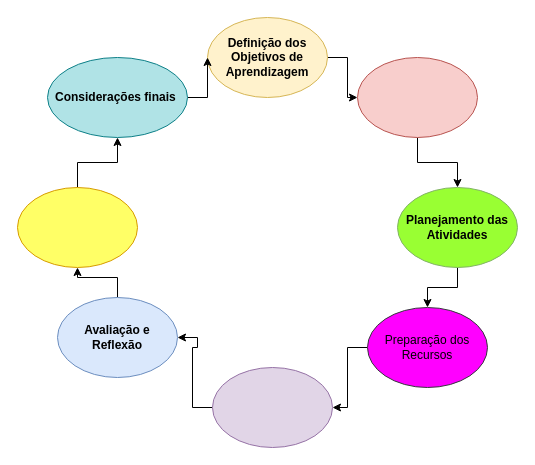
This 535x465 diagram has some shape labels left out. The centre of each missing label's shape, as x and y in pixels:
Escolha da Metodologia Ativa: point (417, 97)
Implementação da Aula: point (272, 407)
Revisão e Ajustes: point (77, 227)
